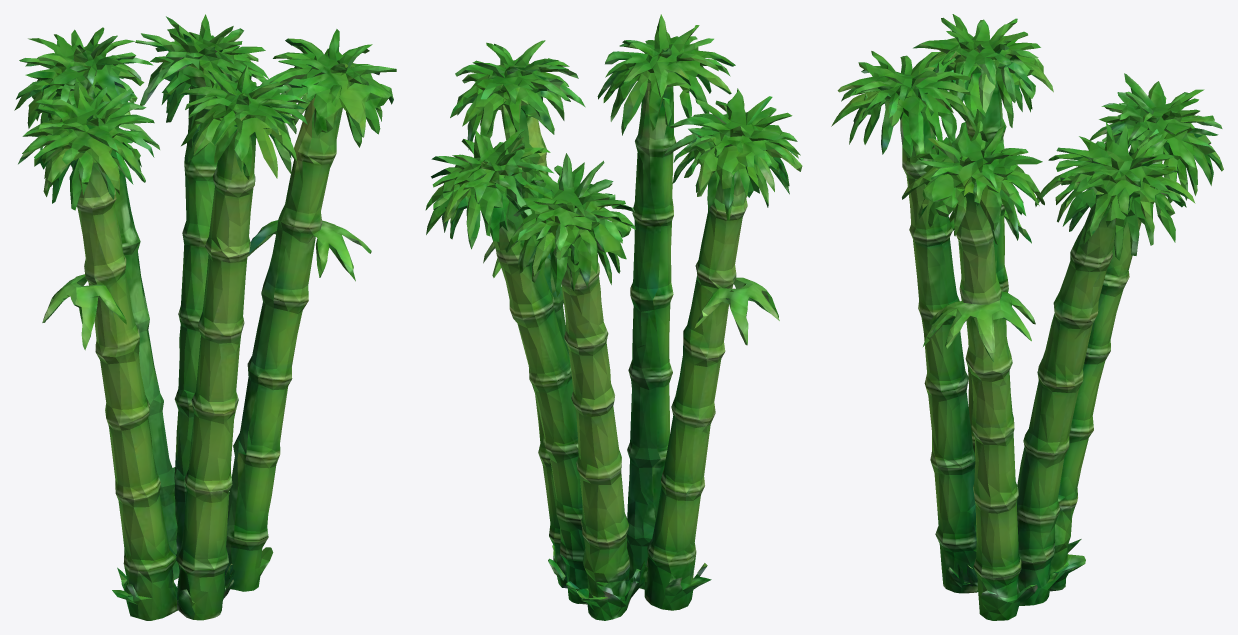
File: bamboo_cluster.glb
The picture shows the model from 3 angles, left to right: view 1: azimuth 30°, elevation 25°; view 2: azimuth 150°, elevation 25°; view 3: azimuth 270°, elevation 25°; orthographic projection. The views are drawn at different scales.
Visible parts, largest first — view 1: tmps6392lzo.ply; view 2: tmps6392lzo.ply; view 3: tmps6392lzo.ply.
Part boxes in pixels (<box>): tmps6392lzo.ply: <box>14,14,396,620</box>; tmps6392lzo.ply: <box>425,14,802,620</box>; tmps6392lzo.ply: <box>831,14,1223,620</box>.
Size of the model in its own units: 1.33 by 1.99 by 1.33.
1 material, 1 textured.
